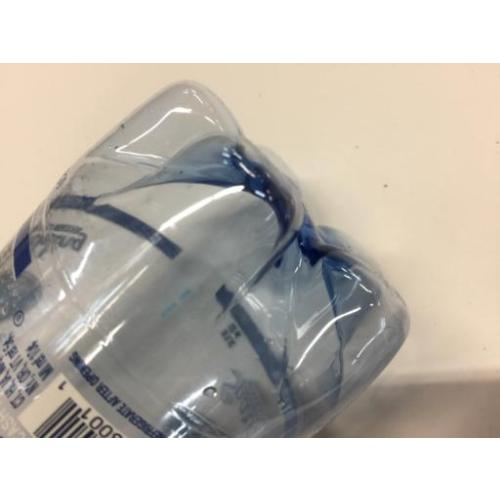plastic: (2, 78, 412, 439)
